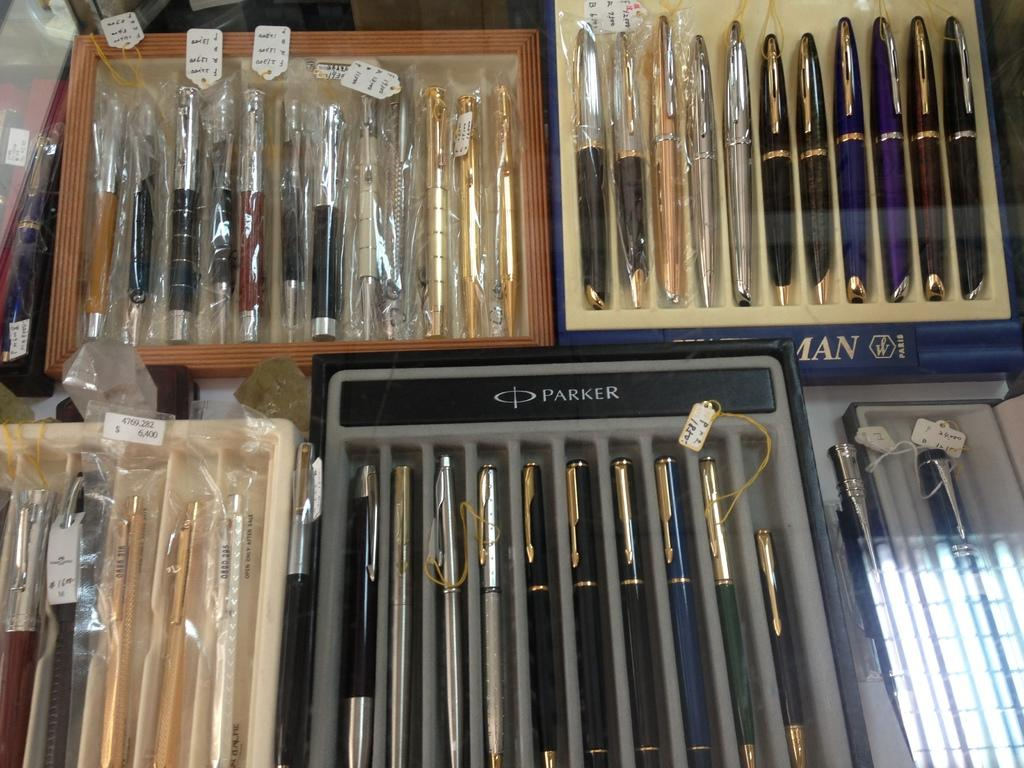pen: (787, 4, 1000, 312), (20, 442, 115, 767), (700, 456, 763, 767), (655, 455, 715, 767), (755, 522, 816, 767), (0, 488, 52, 767), (195, 488, 243, 767), (568, 16, 612, 315), (96, 493, 144, 767), (147, 501, 195, 767), (614, 456, 653, 767), (570, 452, 608, 767), (904, 12, 945, 303), (941, 13, 981, 299), (868, 17, 906, 304), (689, 28, 726, 309), (652, 9, 687, 304), (80, 88, 120, 341), (724, 17, 756, 317), (172, 82, 207, 348), (836, 16, 867, 315), (473, 463, 504, 760), (349, 462, 379, 767), (525, 458, 554, 767), (386, 465, 415, 767), (800, 29, 831, 311), (616, 30, 646, 316), (125, 93, 159, 337), (427, 82, 460, 331), (435, 452, 461, 767), (282, 91, 312, 341), (454, 95, 485, 331), (764, 30, 789, 304), (244, 86, 269, 349), (313, 108, 340, 341), (497, 84, 522, 331), (390, 73, 413, 339), (358, 86, 380, 341), (0, 490, 29, 643)
